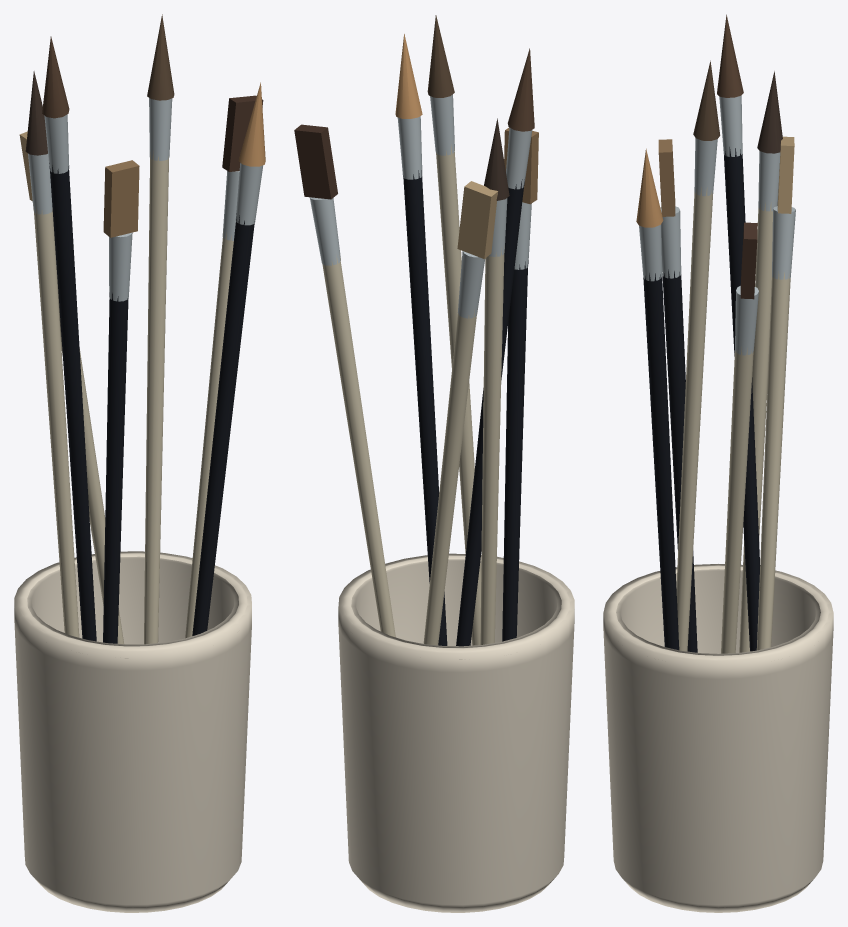
The model's file is atelier-artist-brushes-chalk.glb.
The picture shows the model from 3 angles, left to right: view 1: azimuth 30°, elevation 25°; view 2: azimuth 150°, elevation 25°; view 3: azimuth 270°, elevation 25°; orthographic projection. The views are drawn at different scales.
Bounding box in the file's own units: 0.0812 × 0.269 × 0.068.
